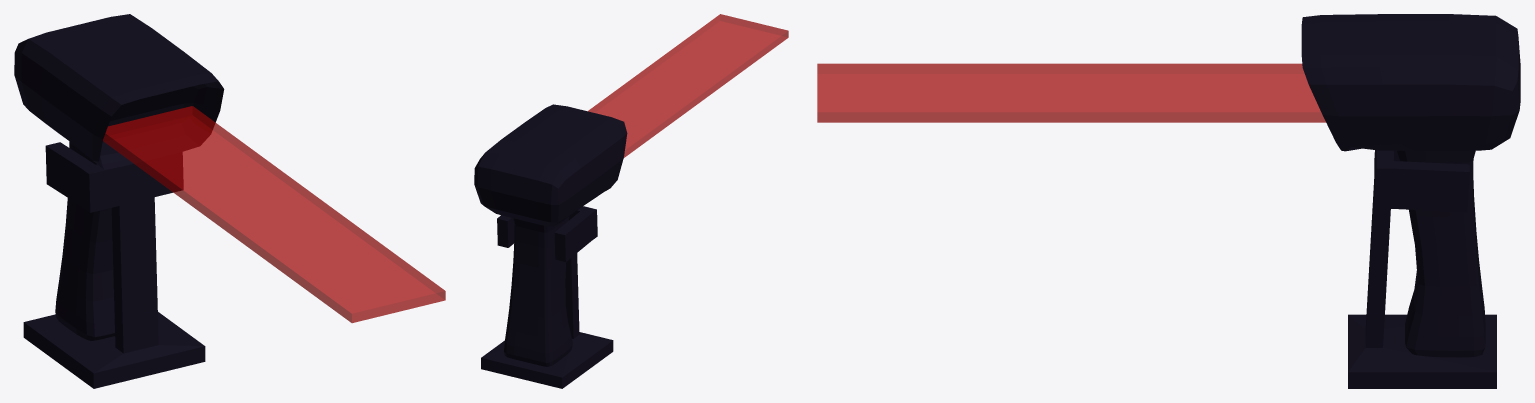
File: scanner.fbx
The picture shows the model from 3 angles, left to right: view 1: azimuth 30°, elevation 25°; view 2: azimuth 150°, elevation 25°; view 3: azimuth 270°, elevation 25°; orthographic projection. The views are drawn at different scales.
Parts seen in each view (by area): view 1: Scanner, Scan, Scanner_Holder; view 2: Scanner, Scan, Scanner_Holder; view 3: Scanner, Scan, Scanner_Holder.
Boxes of the visible parts, x1=… form: Scanner: x1=14, y1=14, x2=224, y2=340; Scan: x1=103, y1=106, x2=445, y2=323; Scanner_Holder: x1=23, y1=142, x2=205, y2=388; Scanner: x1=474, y1=104, x2=627, y2=366; Scan: x1=588, y1=14, x2=788, y2=157; Scanner_Holder: x1=481, y1=206, x2=613, y2=388; Scanner: x1=1301, y1=14, x2=1520, y2=357; Scan: x1=817, y1=63, x2=1325, y2=122; Scanner_Holder: x1=1348, y1=150, x2=1496, y2=388.
Size of the model in its own units: 10.96 by 25.89 by 51.41.
